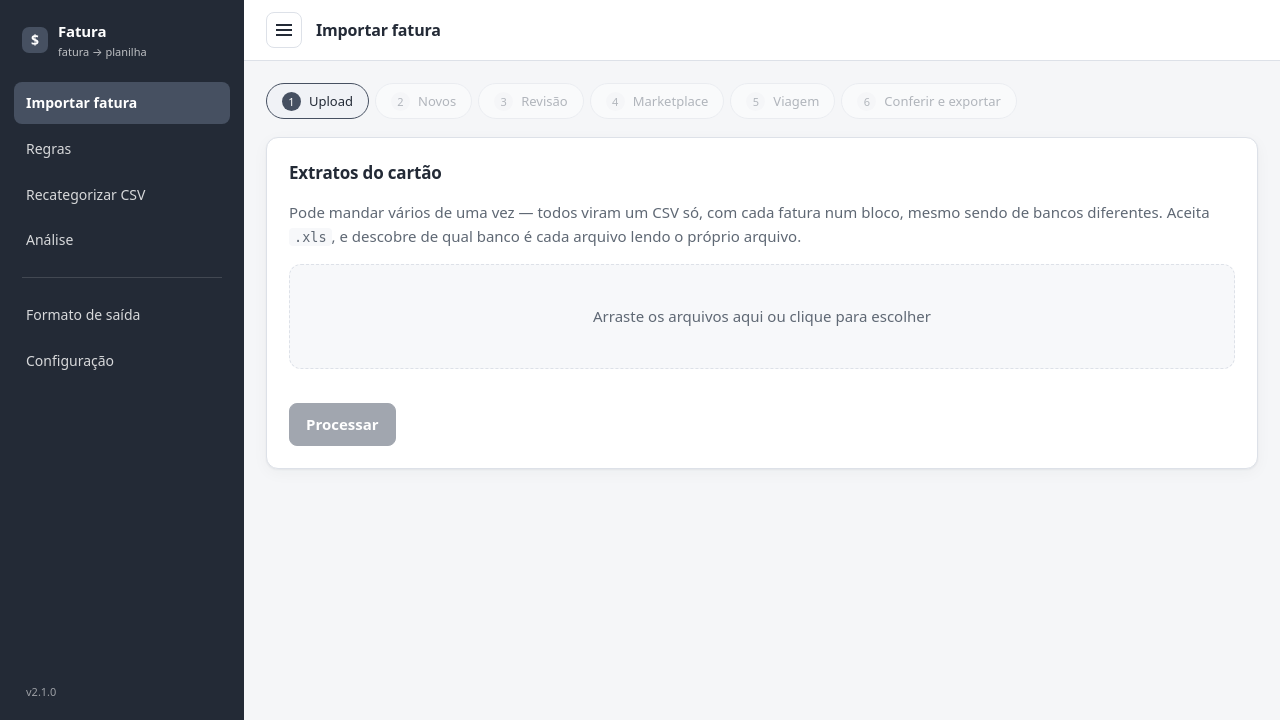
Test: App — navegação travada até confirmar › uma regra que JÁ aponta para uma fixa continua legível e editável
The image size is (1280, 720).
Check: the heading "Importar fatura" is shown, box [316, 18, 441, 42]
Click the button "Regras".
click(122, 149)  # box [14, 128, 230, 170]
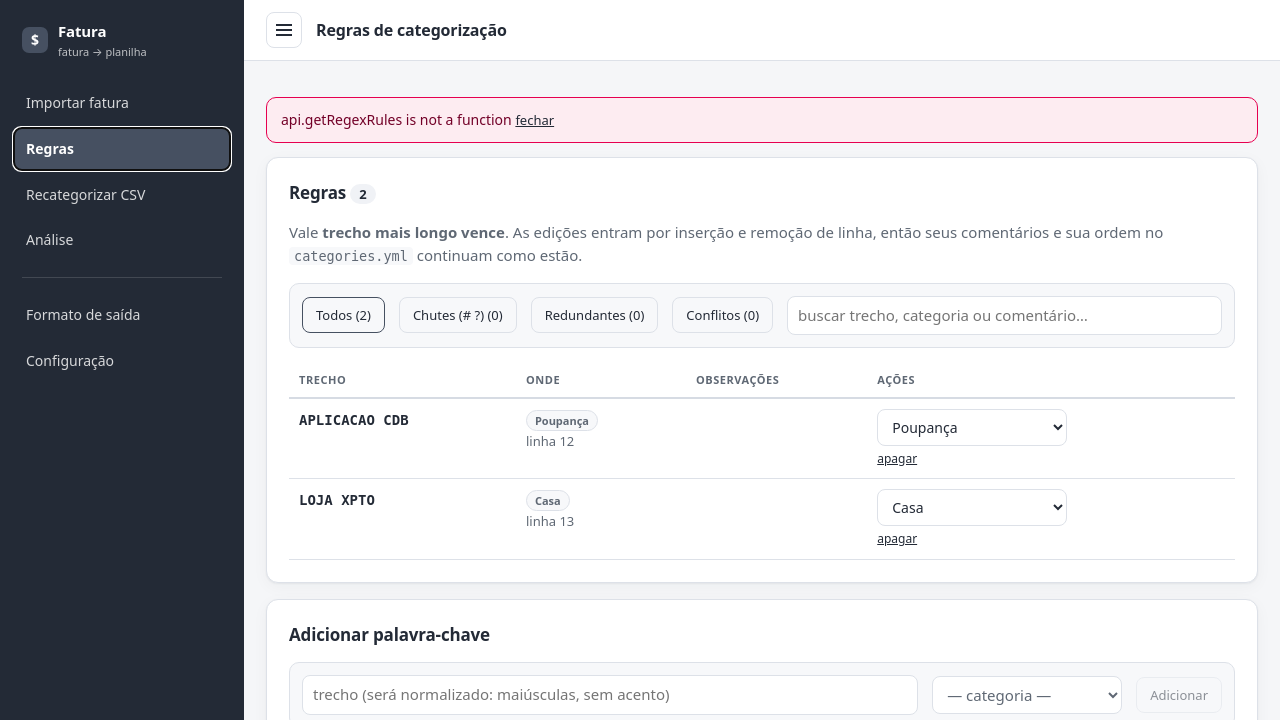
Check: the text "APLICACAO CDB" is shown, box [299, 412, 409, 428]
Check: the dropdown with class "category-select" in the row of "APLICACAO CDB" shows "Poupança", box [877, 409, 1067, 446]
Check: the dropdown with class "category-select" in the row of "LOJA XPTO" shows "Casa", box [877, 489, 1067, 526]
